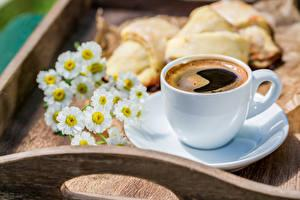chamomile: (117, 98, 142, 127), (88, 108, 113, 134), (60, 107, 85, 132), (31, 66, 55, 90), (93, 88, 117, 110), (71, 79, 94, 99), (77, 46, 102, 64), (50, 84, 68, 104), (59, 52, 77, 70), (67, 133, 91, 145), (124, 77, 139, 95), (47, 108, 59, 130)
